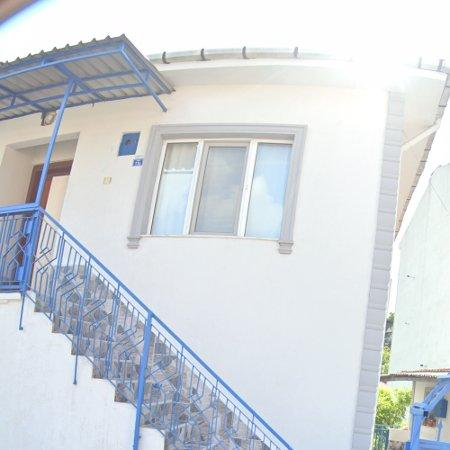stairs: (0, 205, 293, 450)
